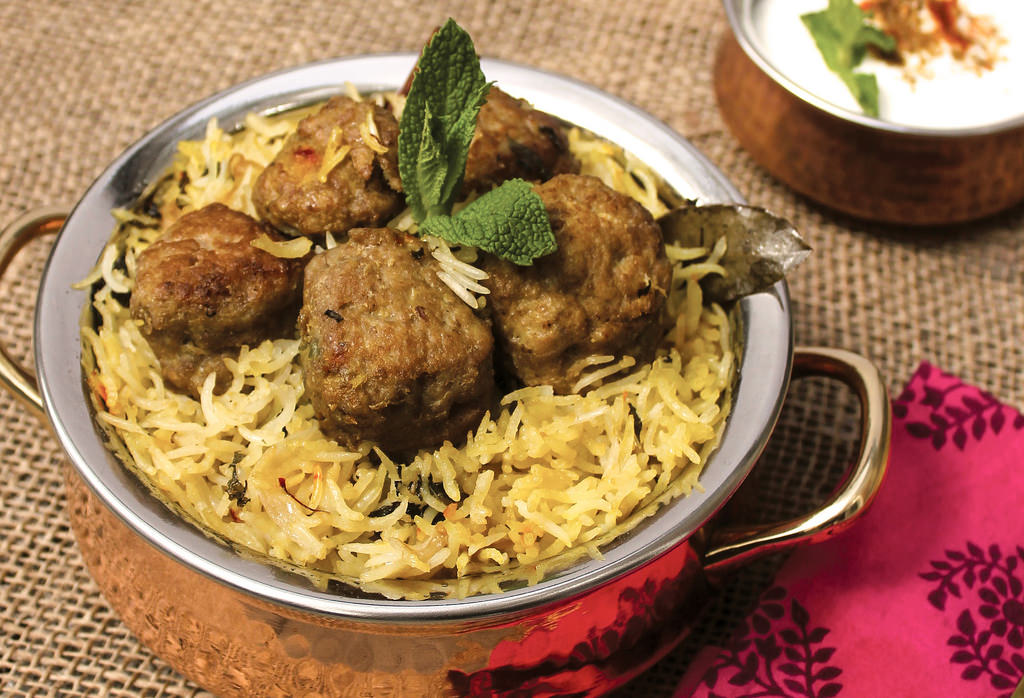meatballs: (299, 243, 514, 444), (475, 187, 686, 391), (119, 202, 320, 379), (253, 87, 434, 243)
plain rice: (109, 382, 727, 594)
